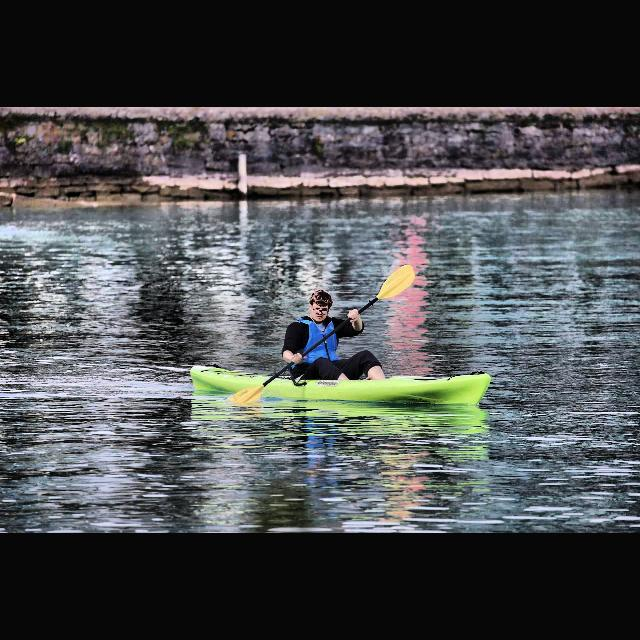kayak: (191, 362, 494, 408)
